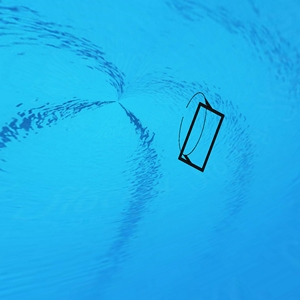circle: (176, 91, 227, 176)
